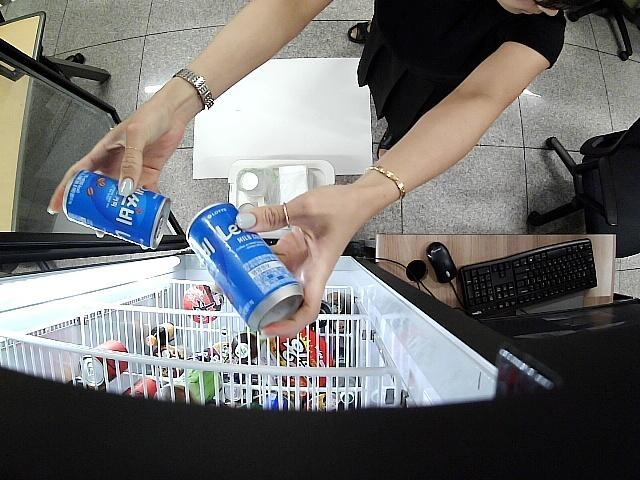15_letsbe: (186, 201, 304, 332), (62, 170, 170, 248)
